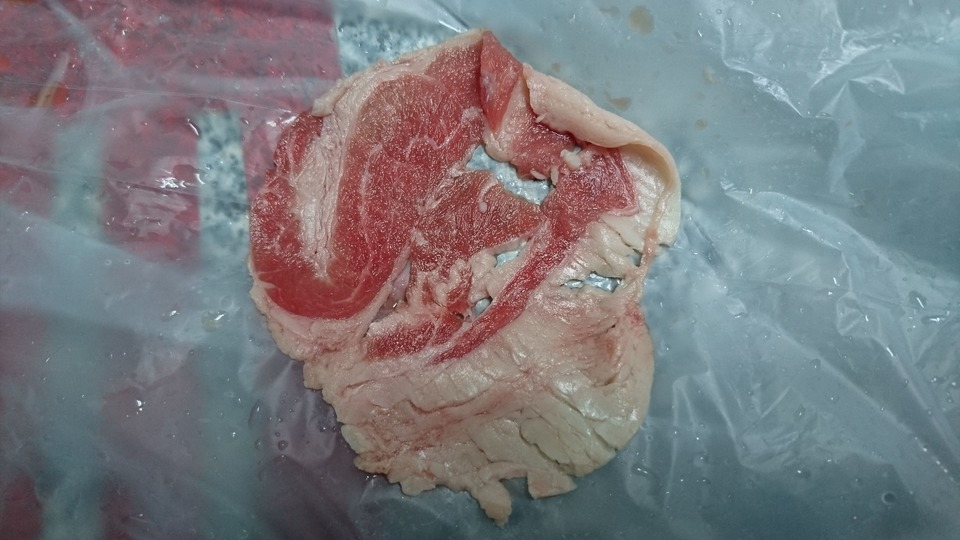restructured meat: (251, 26, 685, 524)
